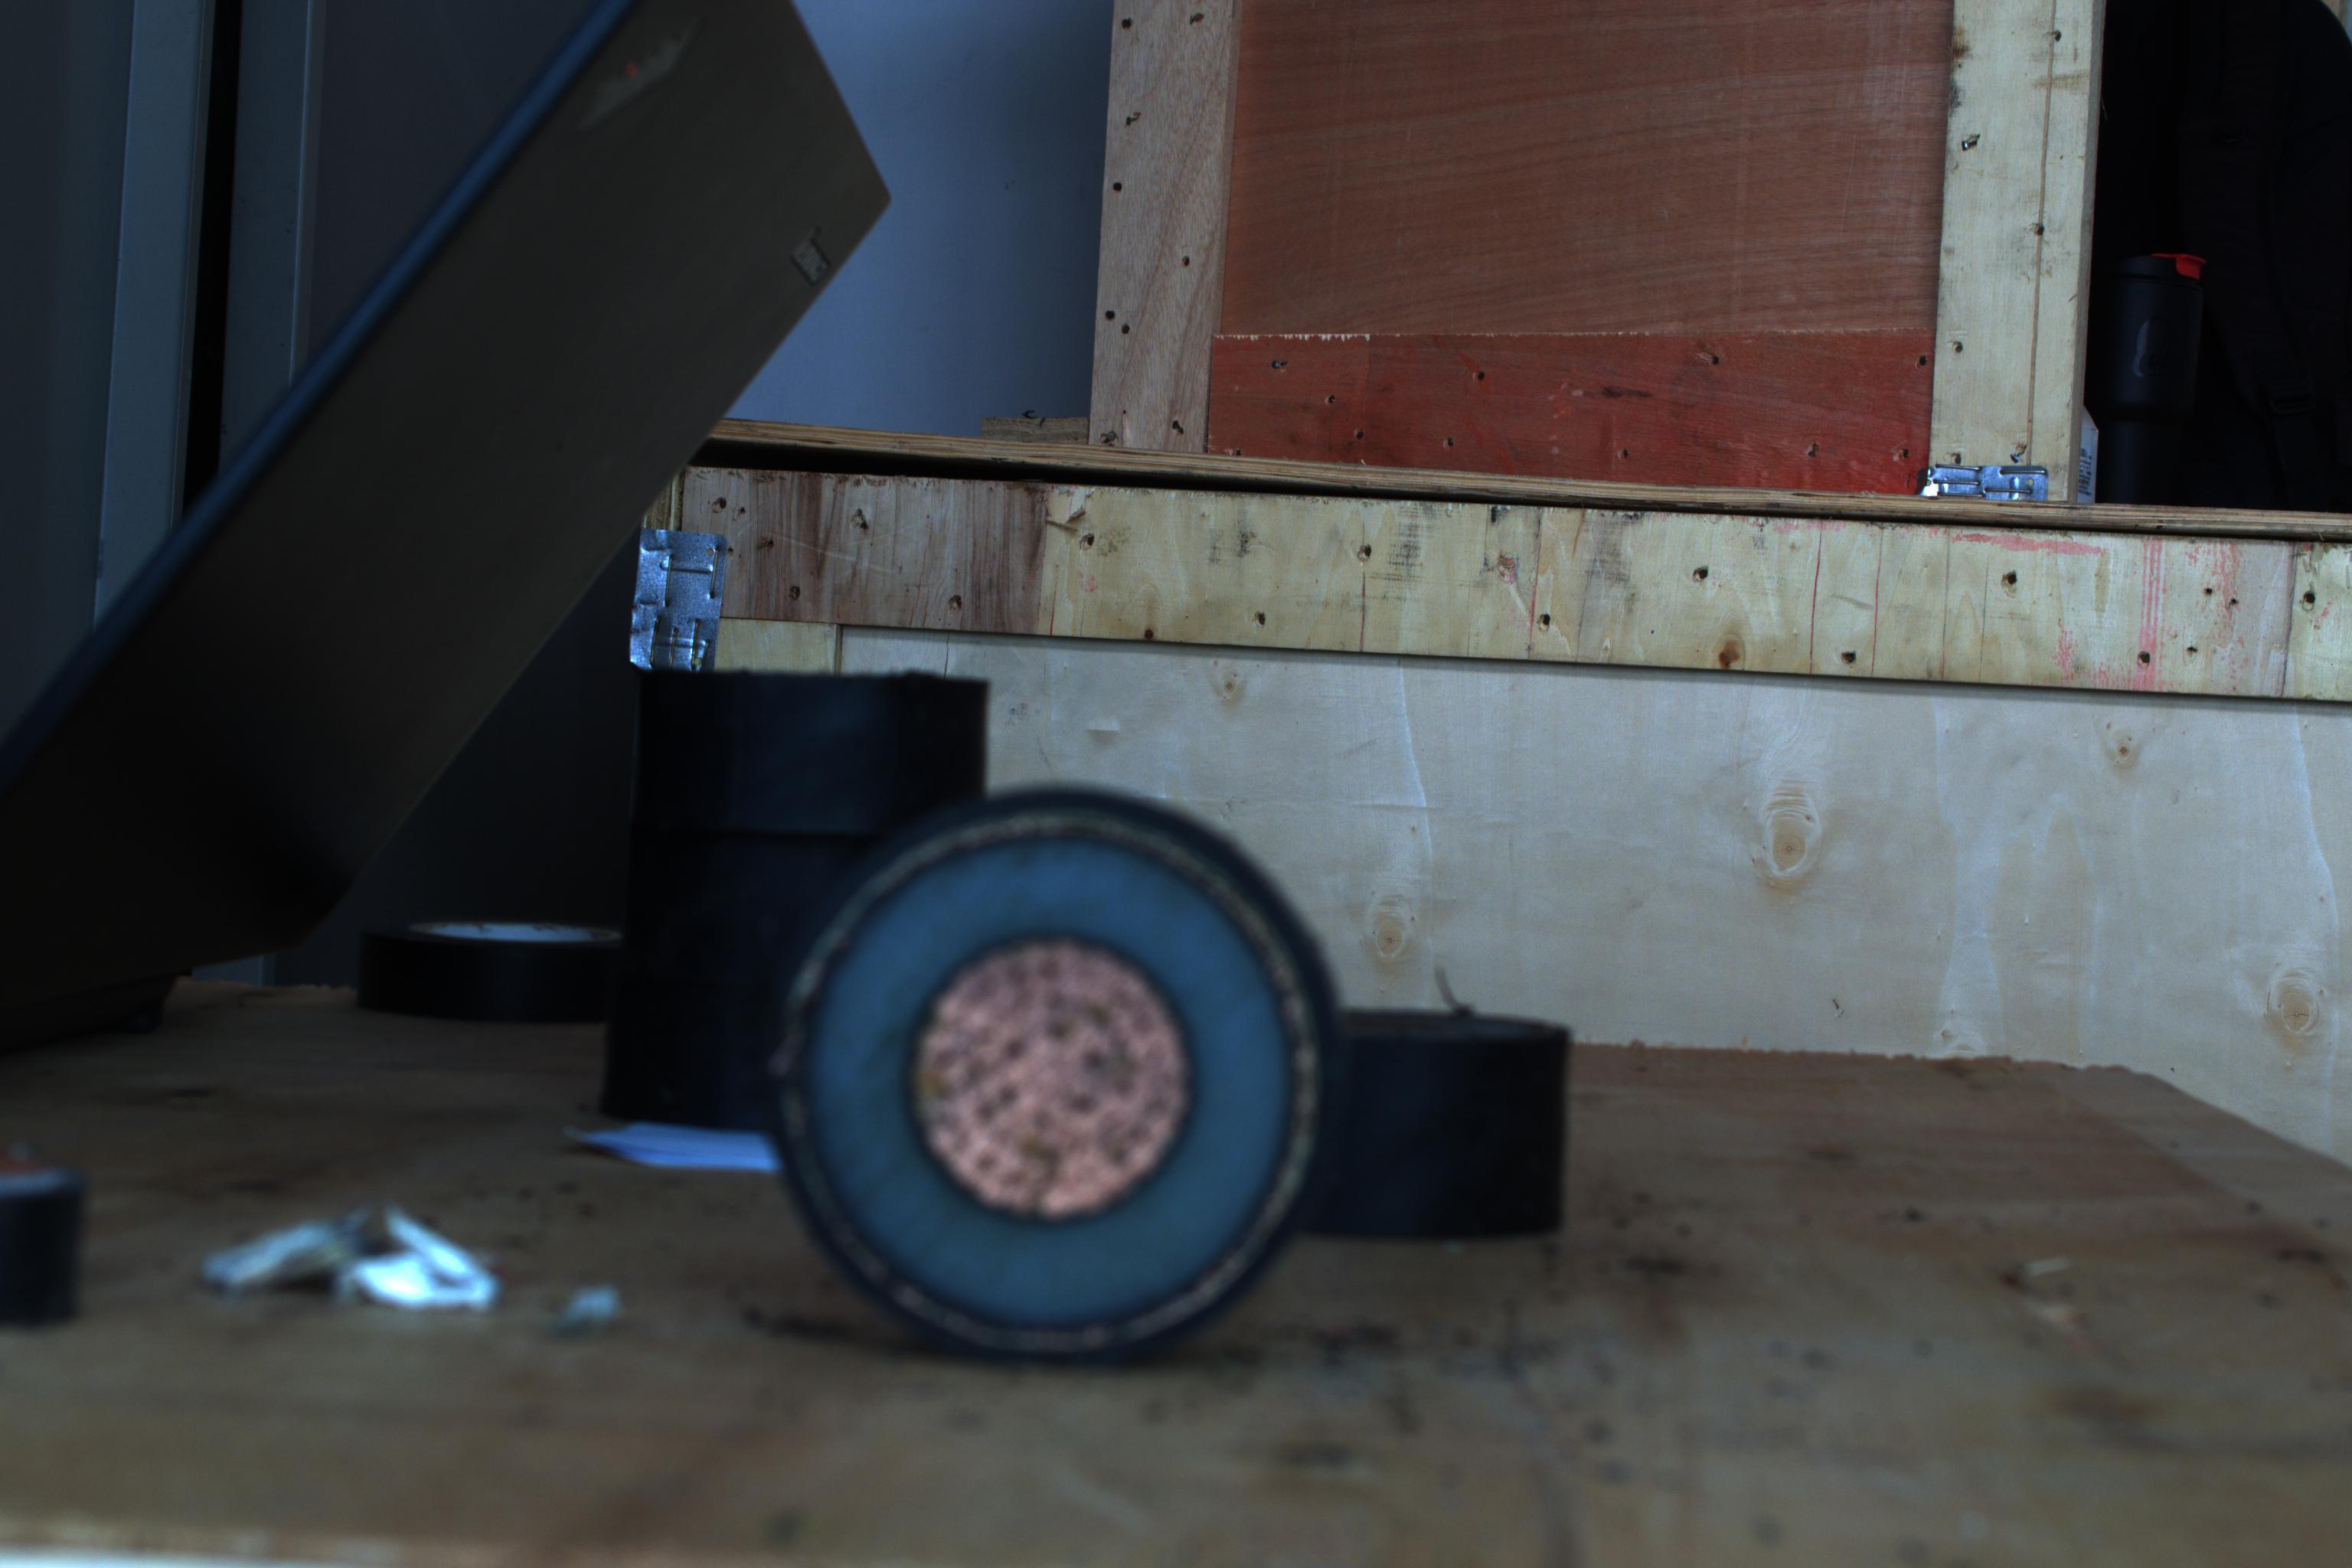YJV_26_35kV_1x630: (742, 801, 1339, 1354)
